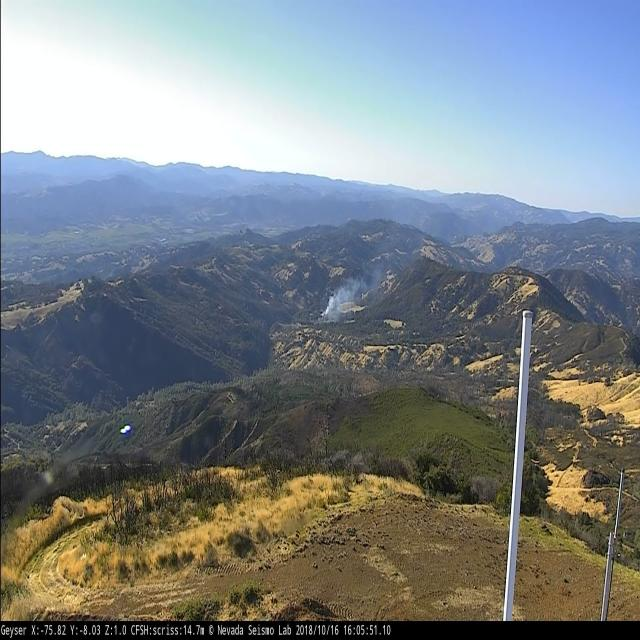smoke: (321, 274, 367, 324)
